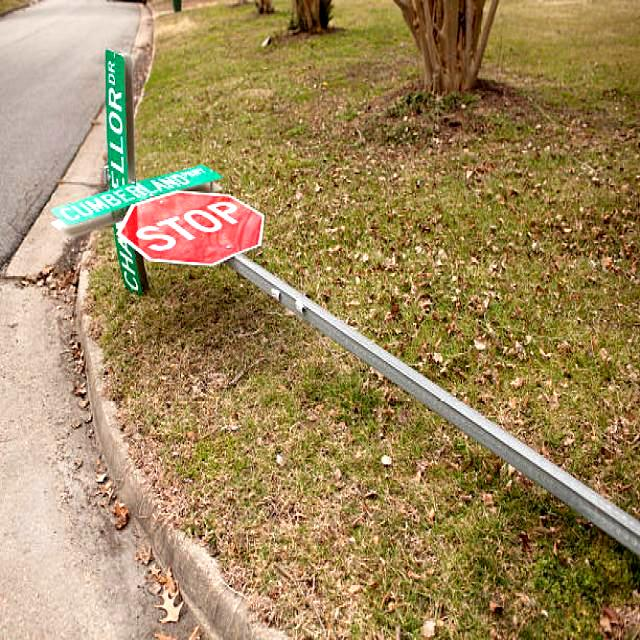Broken Pole: (43, 52, 640, 592)
